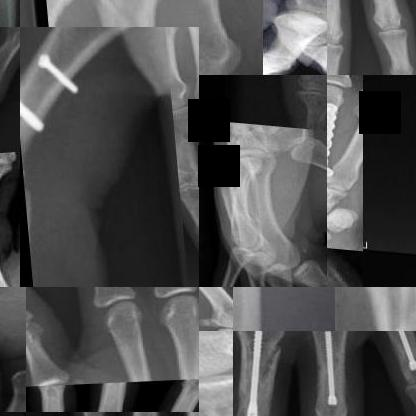fracture: (20, 31, 96, 191), (233, 331, 286, 415), (315, 331, 354, 415), (72, 0, 171, 27), (361, 287, 415, 331), (327, 94, 354, 179), (214, 163, 248, 205), (199, 375, 233, 415), (327, 270, 364, 286)
